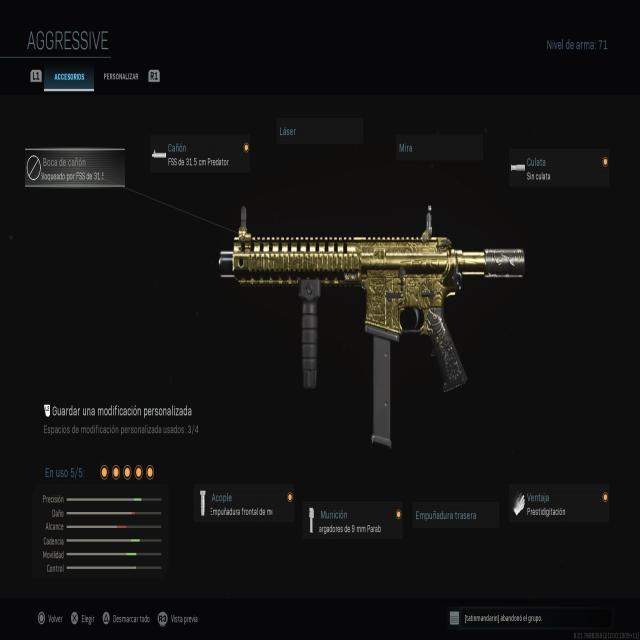rifle: (225, 206, 529, 454)
